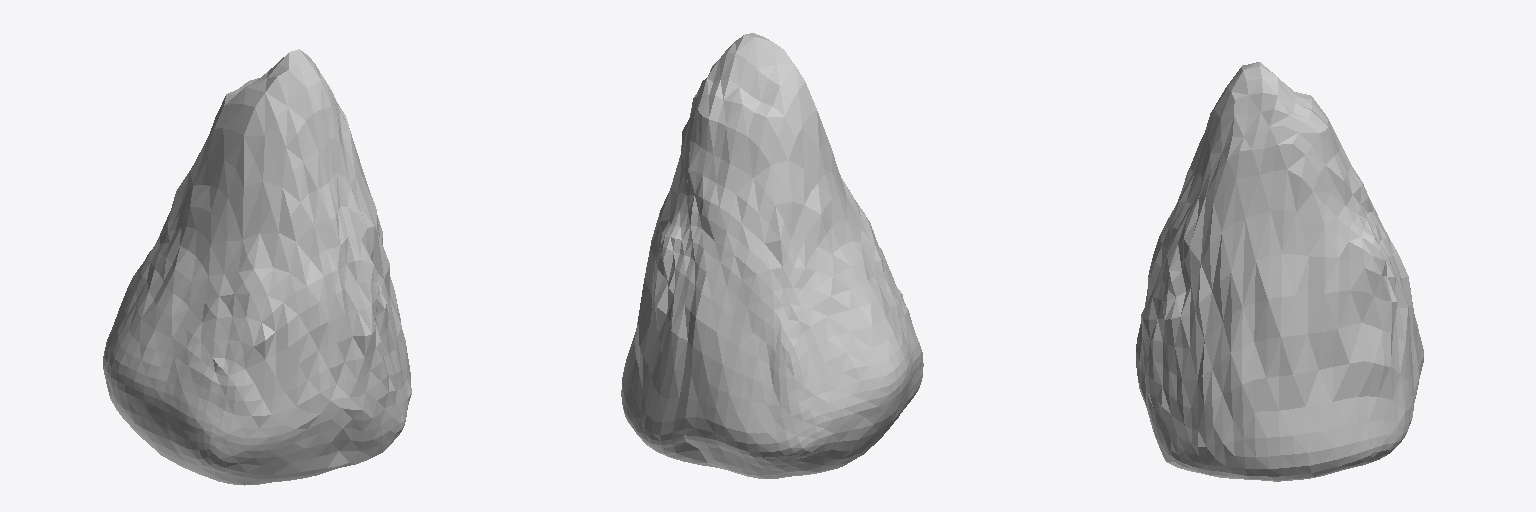
Rendered from Rock.obj.
The picture shows the model from 3 angles: view 1: azimuth 30°, elevation 25°; view 2: azimuth 150°, elevation 25°; view 3: azimuth 270°, elevation 25°; orthographic projection.
Parts seen in each view (by area): view 1: rock_01; view 2: rock_01; view 3: rock_01.
Boxes of the visible parts, x1=… form: rock_01: x1=103, y1=49, x2=411, y2=485; rock_01: x1=621, y1=33, x2=923, y2=478; rock_01: x1=1136, y1=62, x2=1423, y2=481.
Bounding box in the file's own units: 8.78 × 12.85 × 8.17.